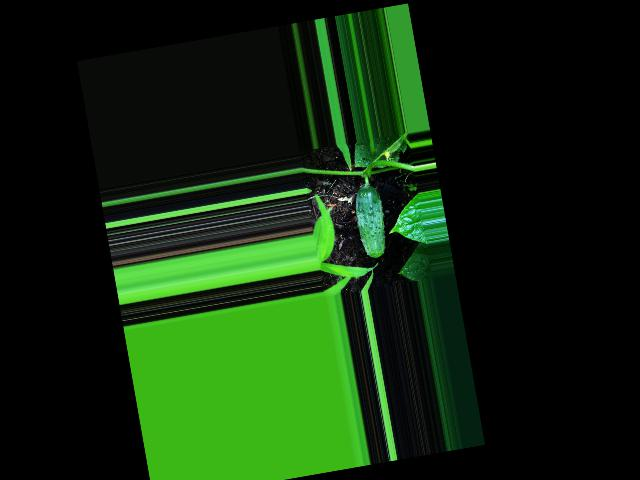cucumber: (350, 183, 390, 261)
